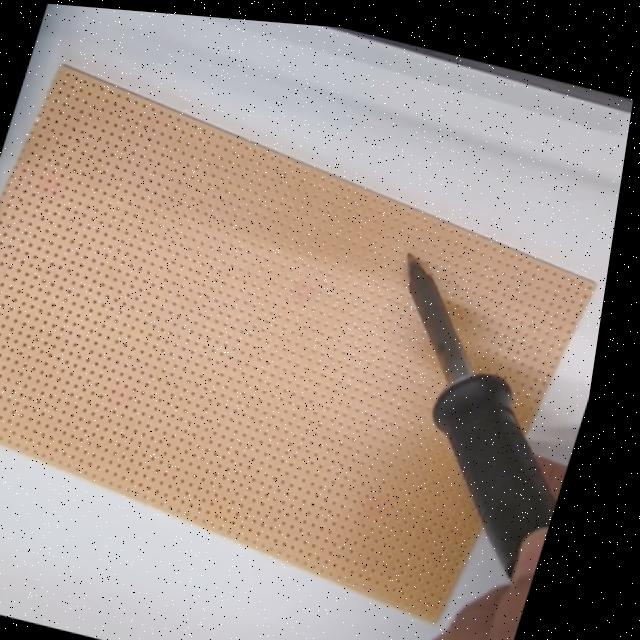soldering_iron: (315, 247, 608, 580)
